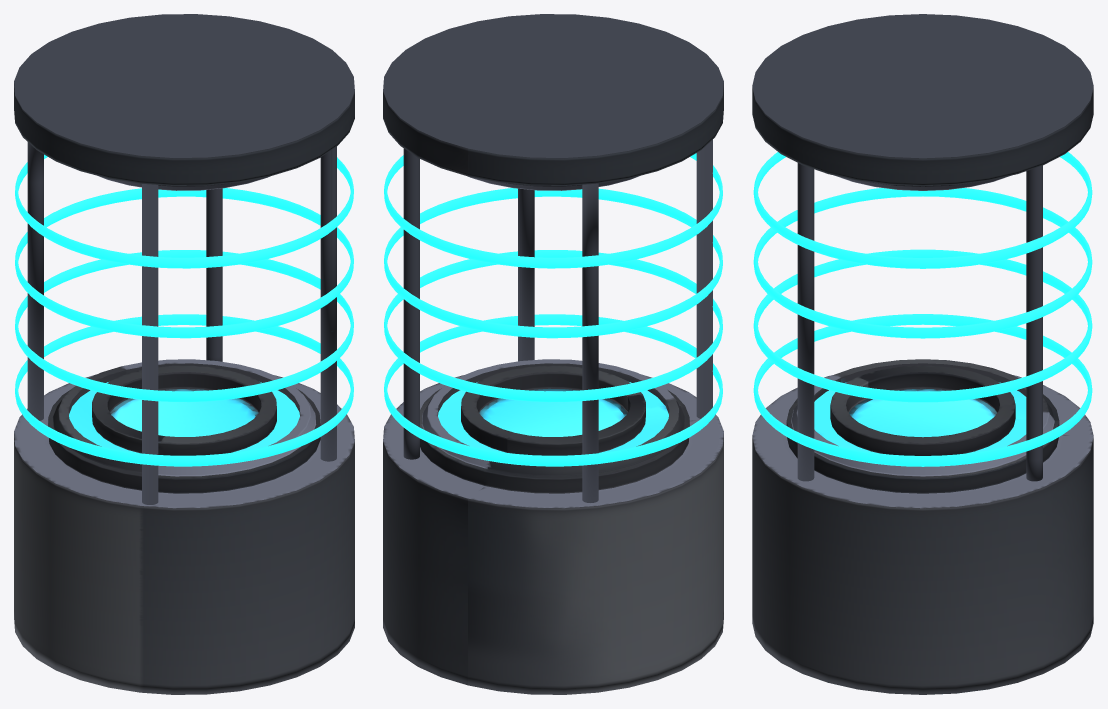
Rendered from Pedestal+laser.fbx.
3 renders of one model, left to right at view 1: azimuth 30°, elevation 25°; view 2: azimuth 150°, elevation 25°; view 3: azimuth 270°, elevation 25°, orthographic.
Visible parts, largest first — view 1: Cylinder.007, Cylinder.006; view 2: Cylinder.007, Cylinder.006; view 3: Cylinder.007, Cylinder.006.
Boxes of the visible parts, x1,y1,x2,y2 form: Cylinder.007: (14, 14, 354, 694); Cylinder.006: (15, 154, 353, 466); Cylinder.007: (383, 14, 723, 694); Cylinder.006: (384, 153, 722, 466); Cylinder.007: (752, 14, 1093, 694); Cylinder.006: (753, 152, 1092, 466).
Size of the model in its own units: 94.01 by 163 by 94.01.
